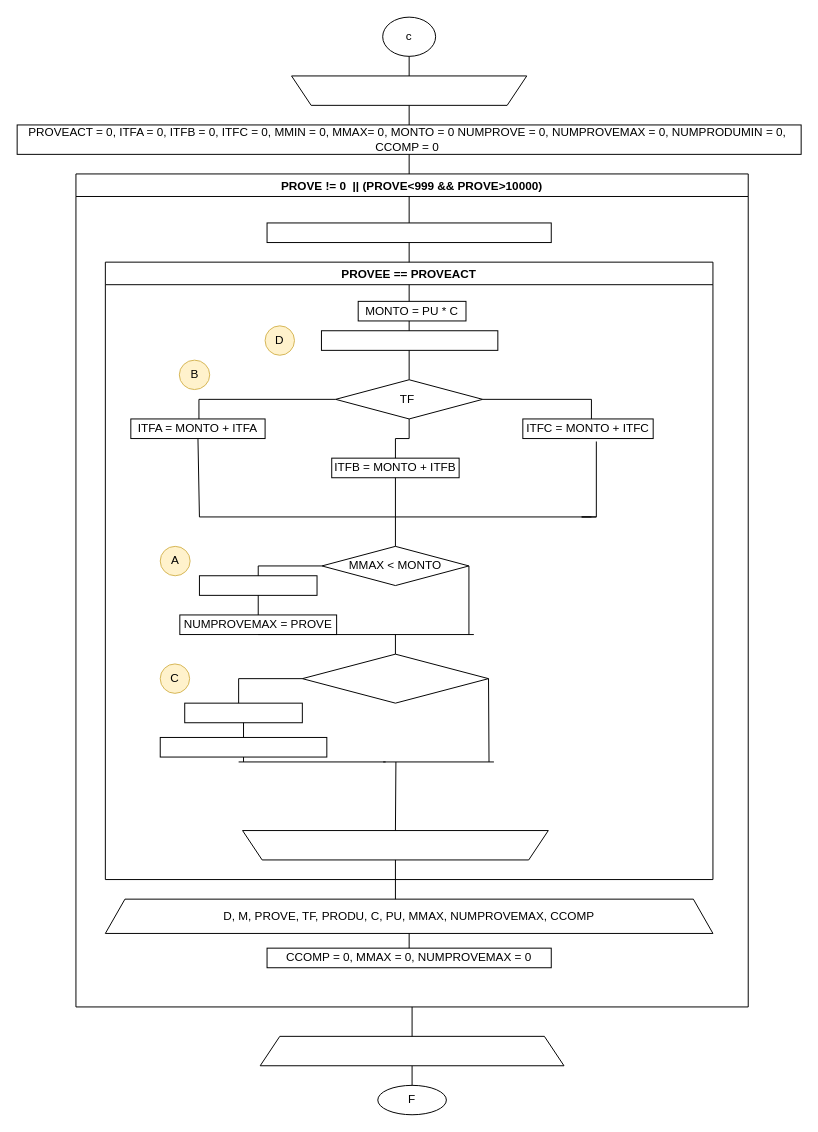
Some shapes in this 818 by 1132 pixel diagram are drawn without their labels. Here are the shapes that lost their labels. From the top down, the centre of each, then its label:
At (409,90): "D, M, PROVE, TF, PRODU, C, PU,".
At (408,232): "PROVEACT = PROVE".
At (409,340): "CCOMP ++".
At (257,585): "MMAX = MONTO".
At (395,678): "M == 8 && MMIN > MONTO".
At (243,712): "MMIN = MONTO".
At (243,746): "NUMPRODUMIN = PRODU".
At (395,845): "D, M, PROVE, TF, PRODU, C, PU".
At (411,1050): "ITFA. ITFB, ITFC. NUMPRODUMIN, MMIN".
